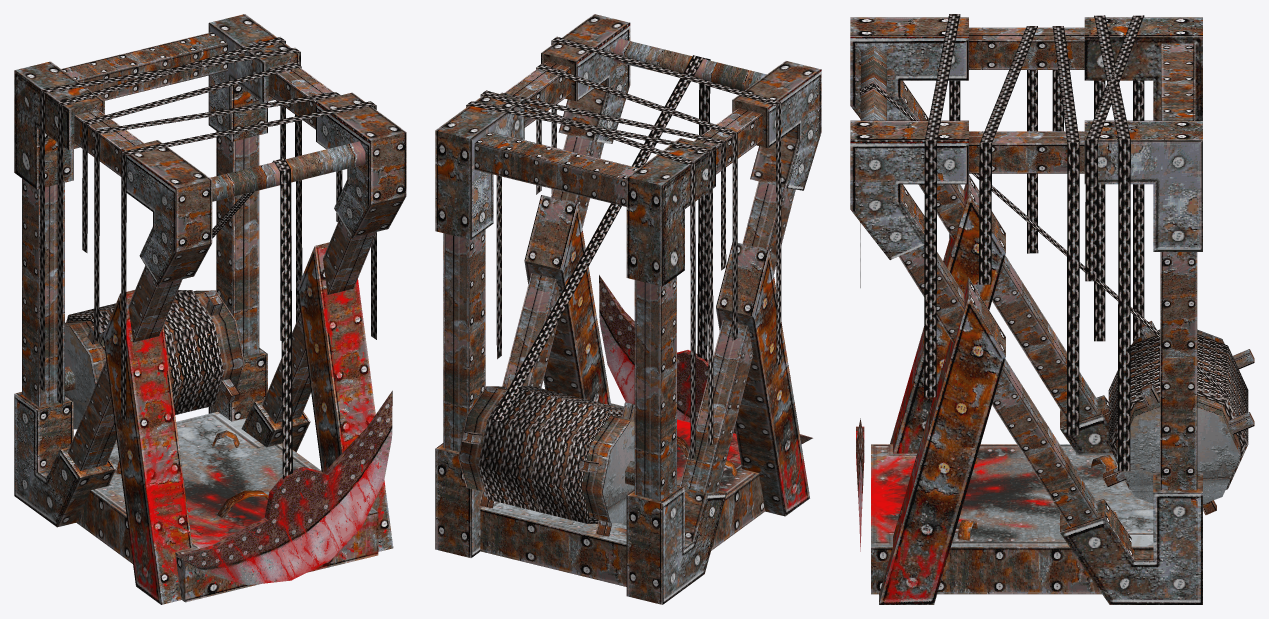
Rendered from Guillotine.fbx.
The picture shows the model from 3 angles, left to right: view 1: azimuth 30°, elevation 25°; view 2: azimuth 150°, elevation 25°; view 3: azimuth 270°, elevation 25°; orthographic projection. The views are drawn at different scales.
Visible parts, largest first — view 1: object_5, object_30, object_9, object_11, object_24, object_37, object_10, object_33, object_34, object_35, object_25, object_36 (+1 smaller); view 2: object_5, object_11, object_30, object_24, object_25, object_9, object_37, object_33, object_34, object_35, object_10, object_36 (+1 smaller); view 3: object_5, object_30, object_33, object_23, object_35, object_11, object_34, object_37, object_36, object_10, object_24, object_9 (+1 smaller).
Boxes of the visible parts, left/top/right/bottom form: object_5: left=14, top=14, right=406, bottom=604; object_30: left=76, top=411, right=378, bottom=602; object_9: left=175, top=390, right=392, bottom=585; object_11: left=66, top=290, right=224, bottom=414; object_24: left=212, top=158, right=292, bottom=478; object_37: left=121, top=101, right=376, bottom=419; object_10: left=210, top=141, right=365, bottom=201; object_33: left=57, top=37, right=285, bottom=404; object_34: left=39, top=48, right=300, bottom=391; object_35: left=82, top=62, right=302, bottom=322; object_25: left=65, top=321, right=106, bottom=429; object_36: left=94, top=92, right=342, bottom=342; object_5: left=435, top=14, right=821, bottom=604; object_11: left=478, top=386, right=623, bottom=523; object_30: left=480, top=403, right=765, bottom=586; object_24: left=491, top=55, right=710, bottom=422; object_25: left=578, top=402, right=634, bottom=536; object_9: left=599, top=275, right=812, bottom=444; object_37: left=551, top=36, right=781, bottom=366; object_33: left=466, top=101, right=713, bottom=446; object_34: left=480, top=90, right=695, bottom=459; object_35: left=496, top=92, right=726, bottom=359; object_10: left=613, top=38, right=766, bottom=90; object_36: left=536, top=63, right=737, bottom=340; object_5: left=850, top=17, right=1202, bottom=604; object_30: left=871, top=444, right=1153, bottom=594; object_33: left=1094, top=15, right=1130, bottom=471; object_23: left=1103, top=384, right=1254, bottom=514; object_35: left=1052, top=26, right=1079, bottom=435; object_11: left=1108, top=334, right=1248, bottom=489; object_34: left=1085, top=15, right=1144, bottom=341; object_37: left=924, top=14, right=960, bottom=397; object_36: left=979, top=26, right=1038, bottom=284; object_10: left=861, top=45, right=886, bottom=120; object_24: left=860, top=82, right=1227, bottom=396; object_9: left=856, top=418, right=864, bottom=551.
Size of the model in its own units: 432 by 735 by 578.
